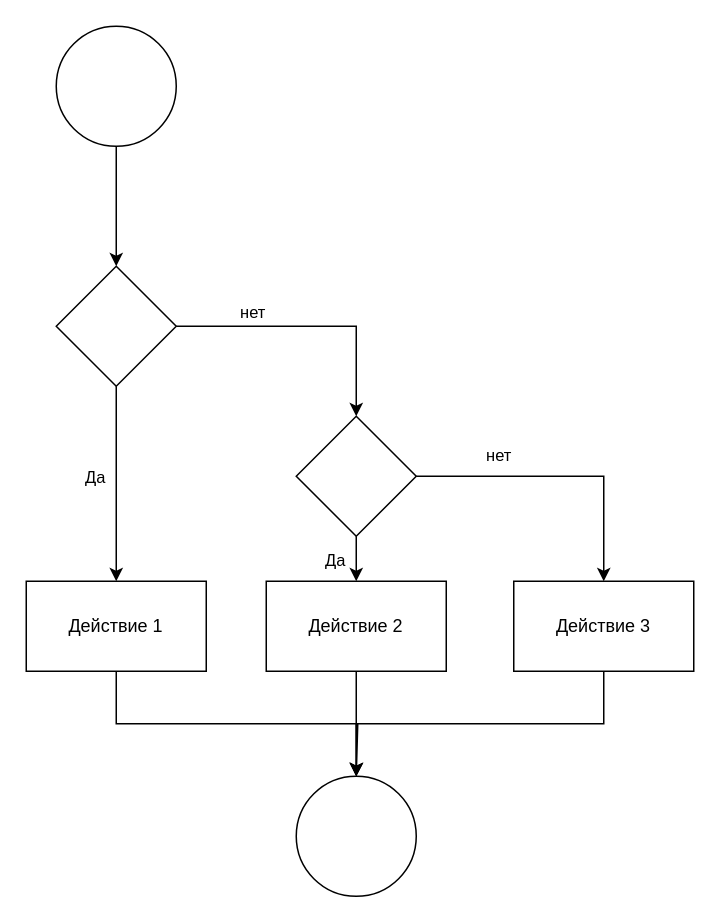
The diagram is 720 pixels wide and 923 high, and some of its shapes have lost their labels. The centre of each missing label's shape, as x and y in pixels:
"Код=Код1" goes at point 115,325.
"Код=Код2" goes at point 355,475.
